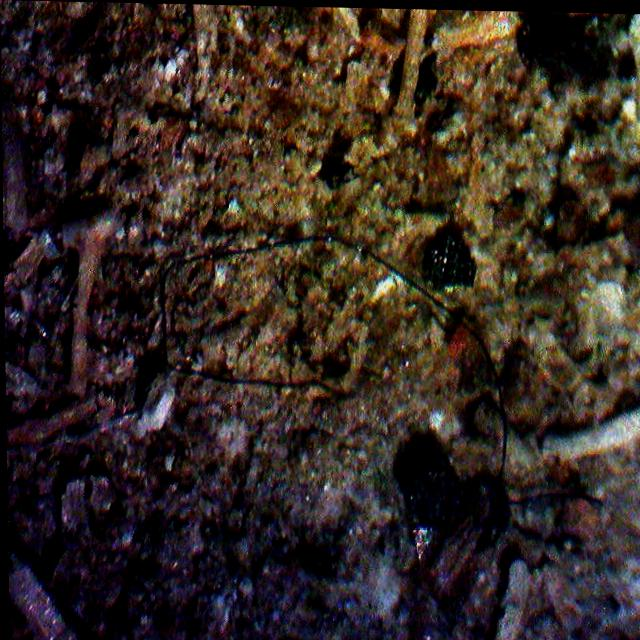microplastic: (158, 234, 600, 506)
